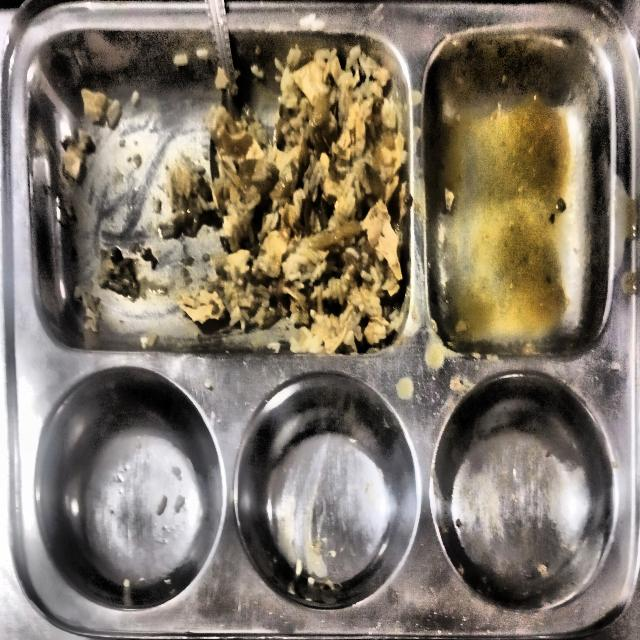Rajma: (62, 45, 406, 349)
